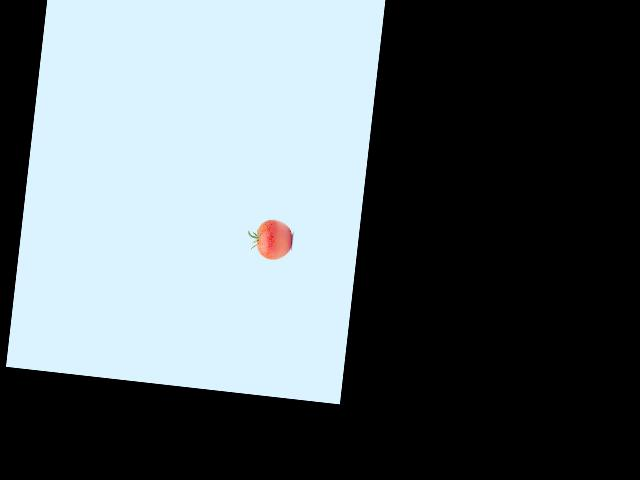tomato: (254, 218, 293, 262)
